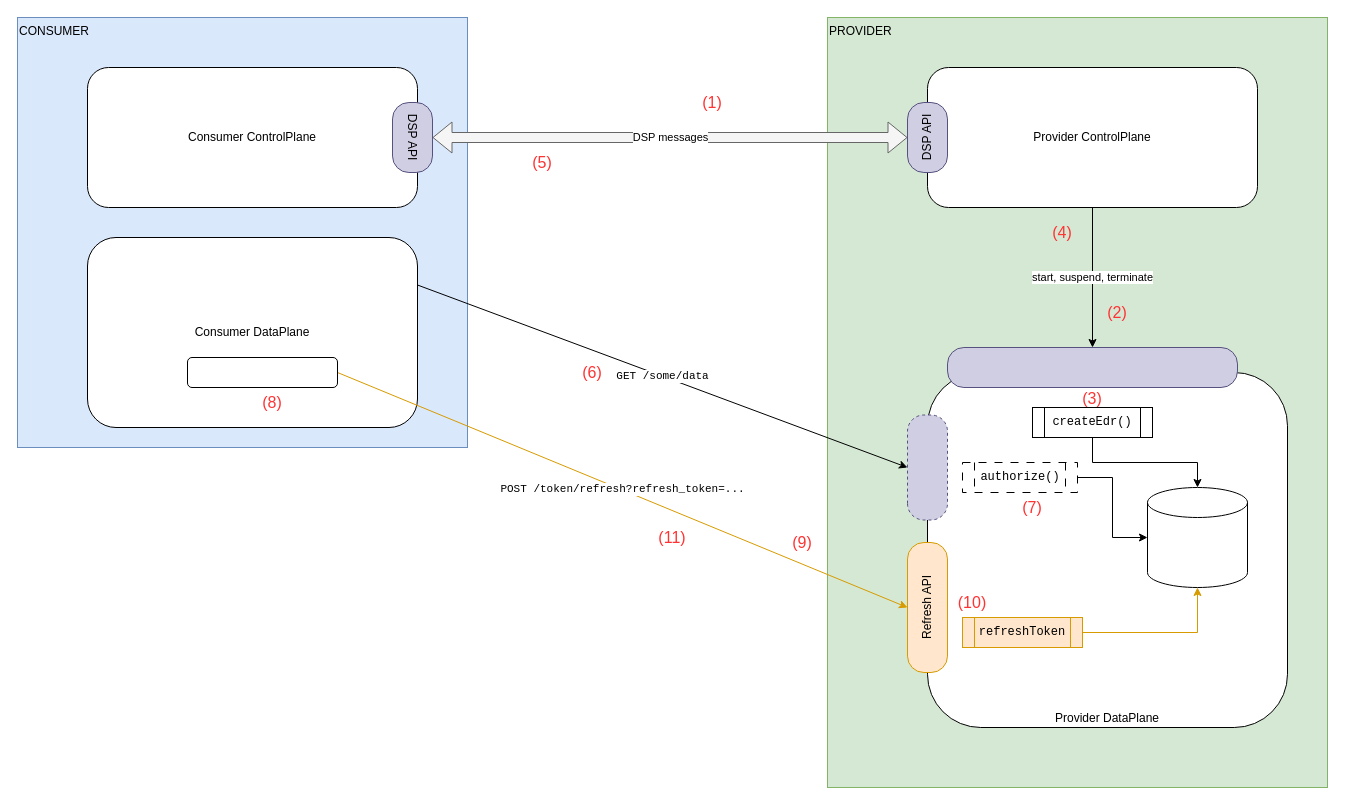
This 1345x805 diagram has some shape labels left out. Each missing label, with the centre of its shape:
"AccessDataTokenStore" goes at (x=1197, y=537).
"Public API" goes at (x=927, y=467).
"Signaling API" goes at (x=1092, y=367).
"TokenRefreshHandler" goes at (x=262, y=372).
